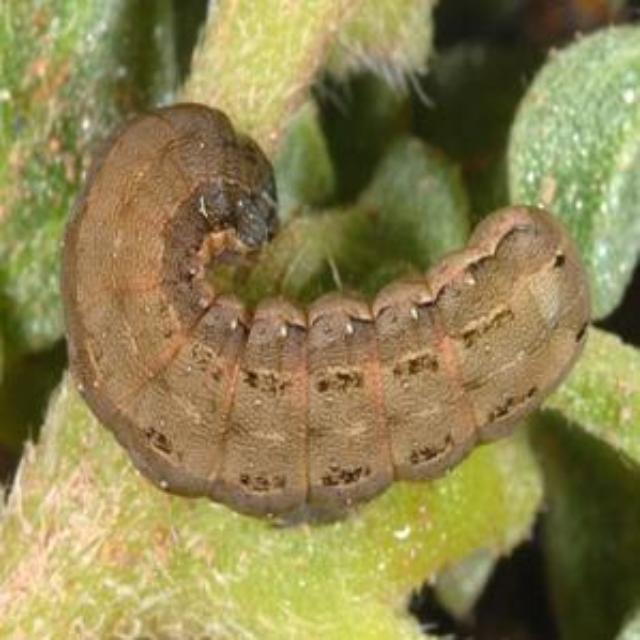Beet armyworm: (24, 76, 614, 538)
